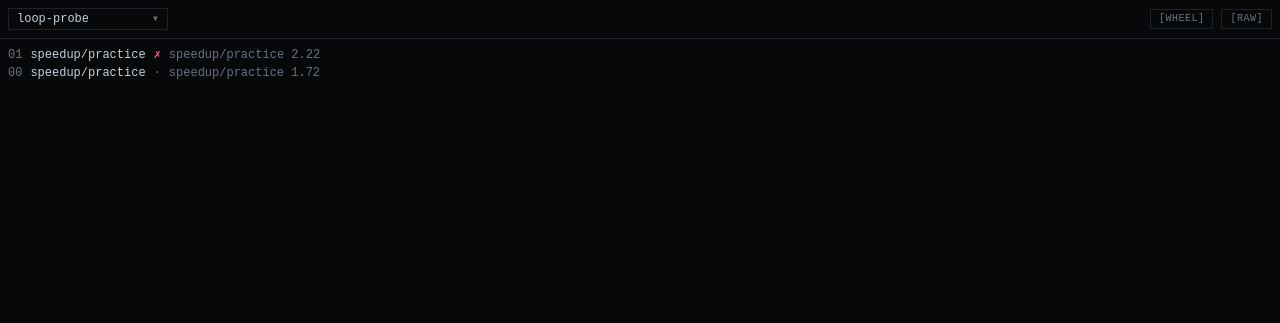
Test: FlywheelPane round detail — comparability › says unknown, not comparable, when no summary was written
The width and height of the screenshot is (1280, 323).
What coordinates should you click on to do the following:
click the button "01 speedup/practice ✗ speedup/practice 2.22"
I would click on:
 (88, 55)
Its box is [8,47,1272,63].
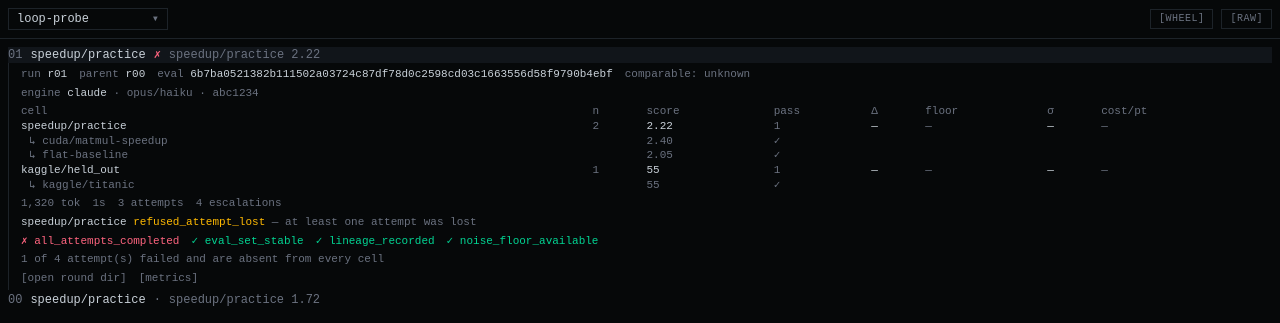
expect the text "comparable: unknown" is shown: met, box [625,67,750,82]
